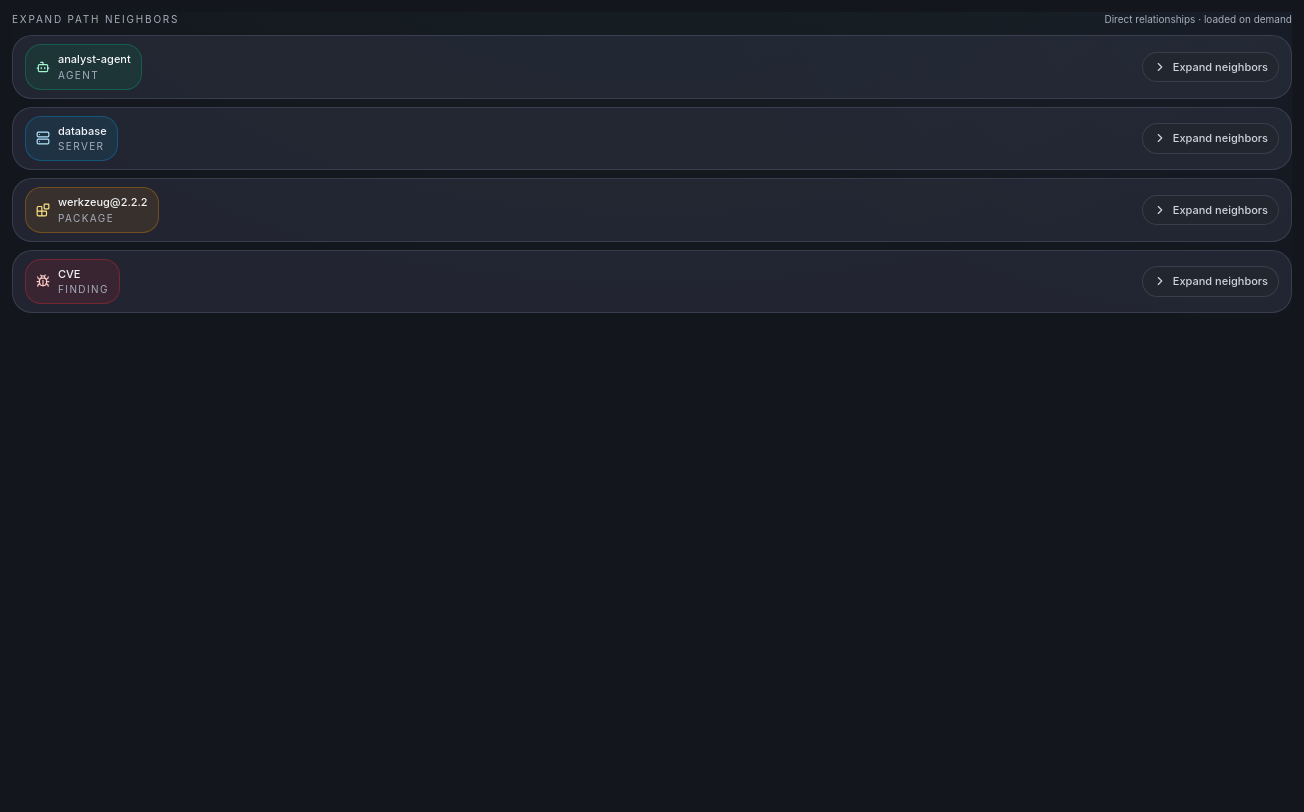
it: ExposurePathNeighborExplorer › honestly reports a bounded fan-out with a +N more affordance
Click the button with aria-label "Expand neighbors of werkzeug" at (1210, 210), box [1142,194,1279,225]
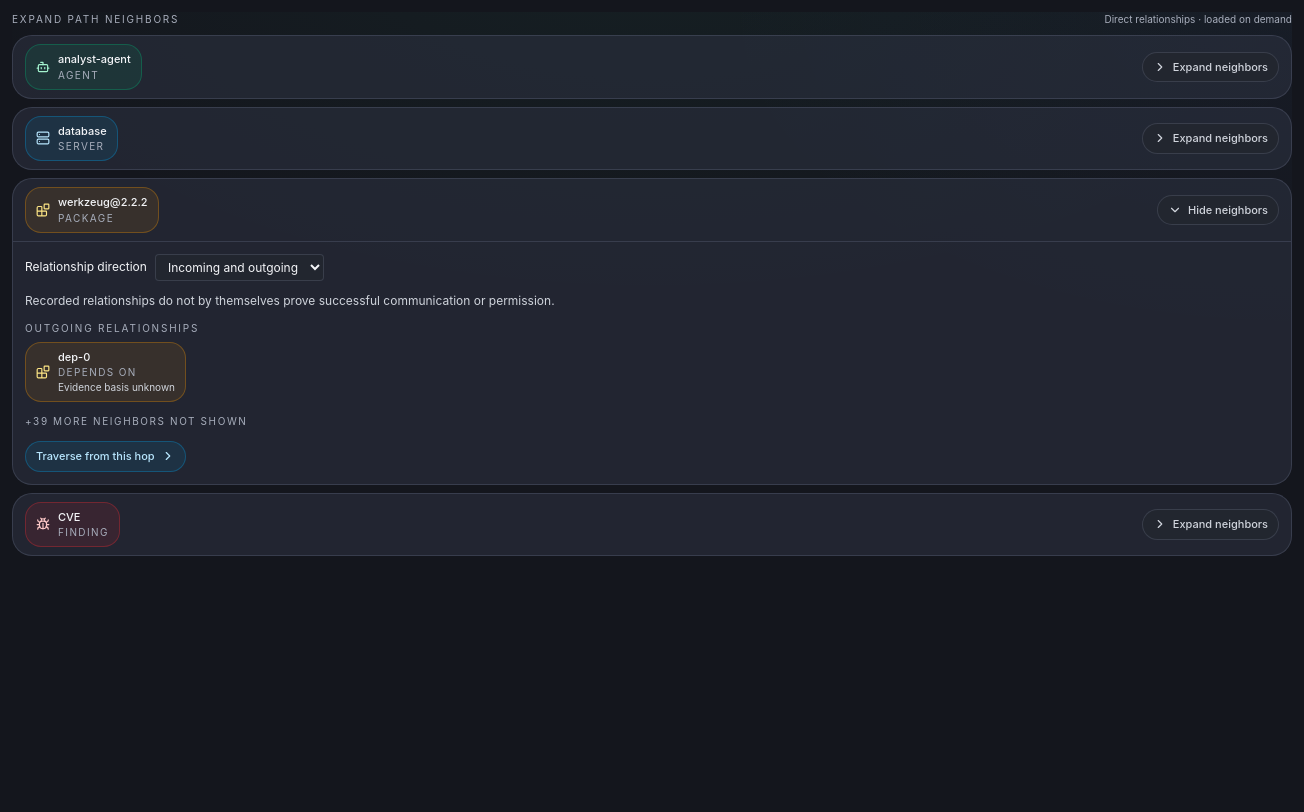
Now the text "+39 more neighbors not shown" is shown, box [25,415,248,427]
